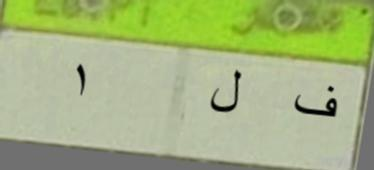1: (70, 58, 96, 100)
faa: (289, 82, 348, 122)
laam: (203, 66, 246, 116)
